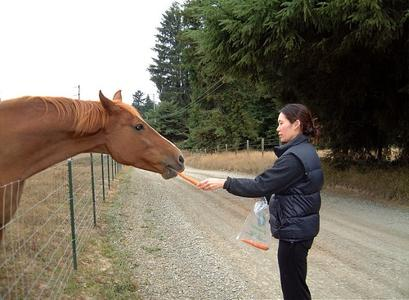person: (197, 104, 325, 300)
